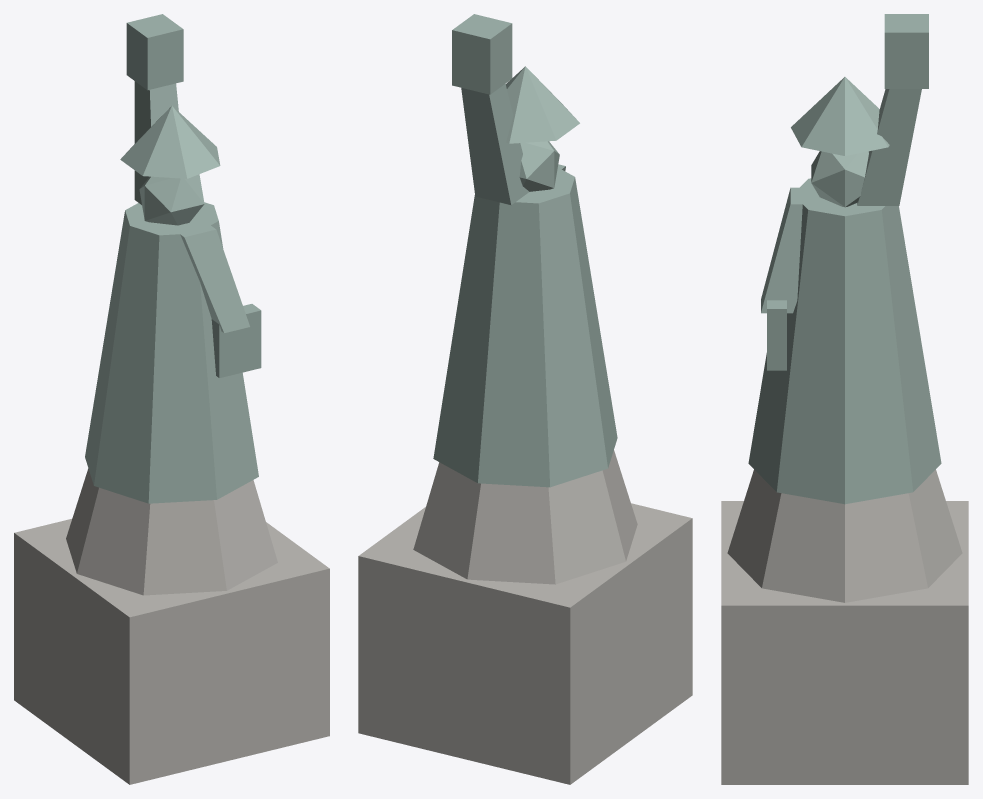
3 renders of one model, left to right at view 1: azimuth 30°, elevation 25°; view 2: azimuth 150°, elevation 25°; view 3: azimuth 270°, elevation 25°, orthographic. The views are drawn at different scales.
Visible parts, largest first — view 1: part0, part2, part1, part4, part6, part7, part3, part8, part5; view 2: part0, part2, part1, part5, part6, part4, part3; view 3: part0, part2, part1, part4, part5, part6, part7, part3, part8.
Boxes of the visible parts, x1,y1,x2,y2 form: part0: (14,519,329,784); part2: (85,202,258,503); part1: (66,468,277,595); part4: (120,106,220,178); part6: (126,14,183,90); part7: (180,217,249,333); part3: (139,174,204,225); part8: (211,304,261,378); part5: (134,81,178,204); part0: (358,503,692,784); part2: (433,167,617,487); part1: (413,450,637,584); part5: (461,84,529,204); part6: (452,14,512,94); part4: (505,66,579,143); part3: (519,141,559,191); part0: (721,501,968,784); part2: (748,178,941,504); part1: (727,469,962,602); part4: (791,77,889,155); part5: (857,89,921,205); part6: (884,14,928,88); part7: (761,187,824,313); part3: (811,151,868,207); part8: (767,300,786,370).
Bounding box in the file's own units: 2 × 6.38 × 2.
